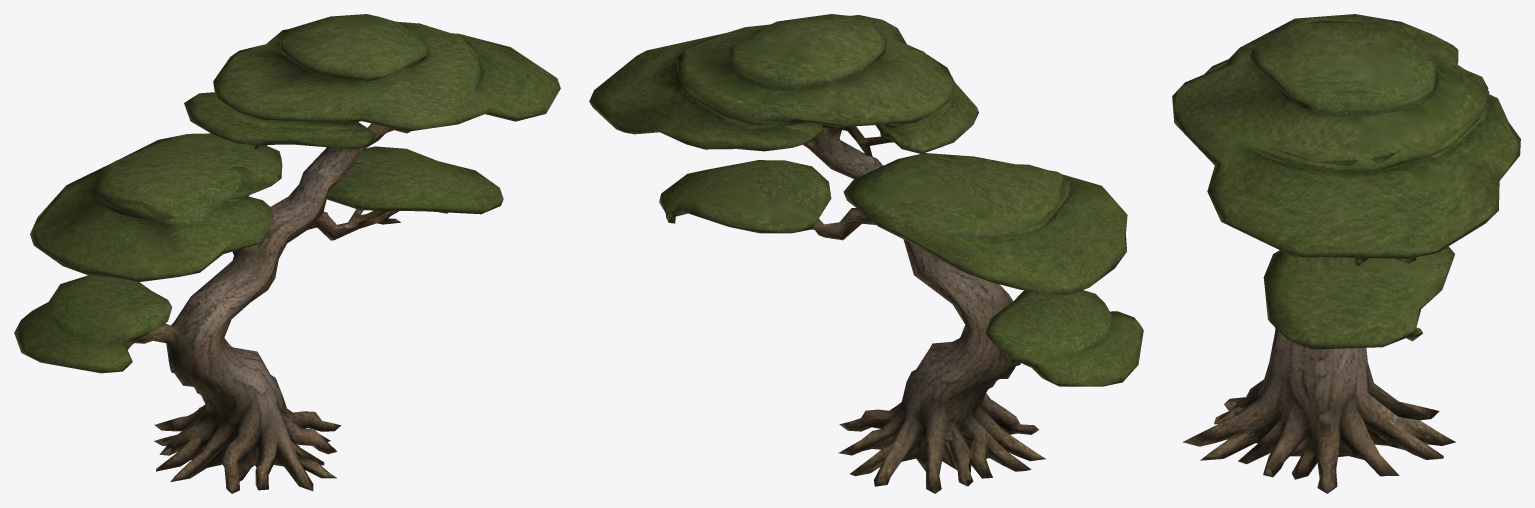
The model's file is MountainPine.fbx.
3 views of the same model, side by side, from view 1: azimuth 30°, elevation 25°; view 2: azimuth 150°, elevation 25°; view 3: azimuth 270°, elevation 25° (orthographic). The views are drawn at different scales.
Parts seen in each view (by area): view 1: MountainPine_LOD0; view 2: MountainPine_LOD0; view 3: MountainPine_LOD0.
Part boxes in pixels (x1,y1,x2,y2): MountainPine_LOD0: (14, 14, 560, 493); MountainPine_LOD0: (589, 14, 1143, 493); MountainPine_LOD0: (1172, 14, 1520, 493).
Size of the model in its own units: 6.91 by 5 by 3.43.
